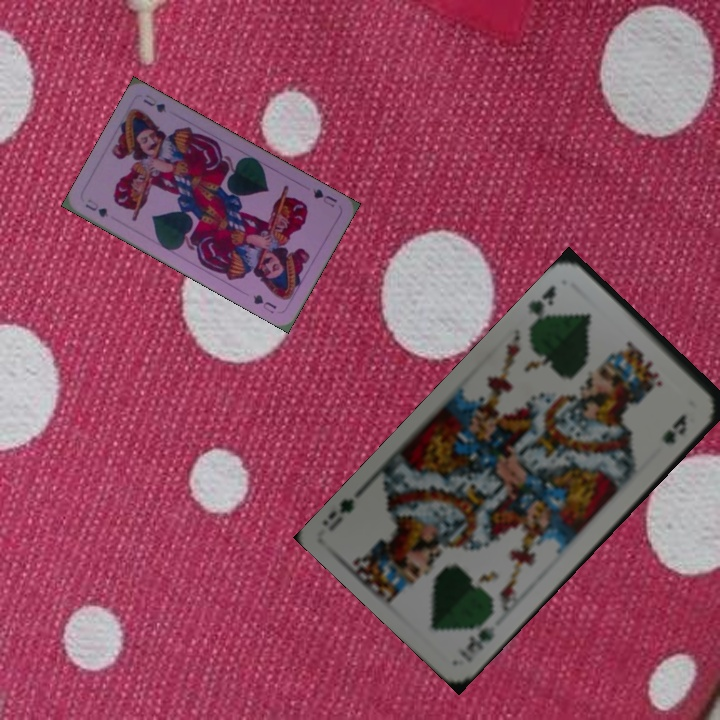GK: (523, 281, 559, 323), (462, 622, 498, 657)
GU: (309, 185, 340, 210), (81, 195, 111, 220)
